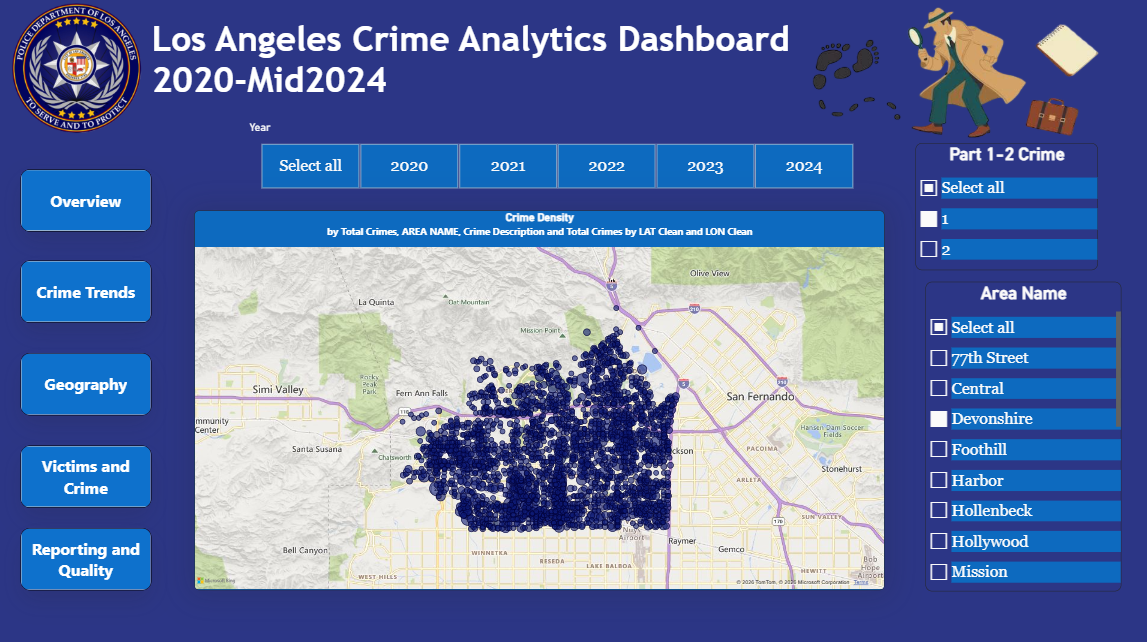

The dashboard page shown, as its layout file describes it:
{"tool":"powerbi","page":{"name":"Geography","canvas":[1920,1080],"ordinal":2},"visuals":[{"type":"image","box":[18,8,221.4,220],"z":0},{"type":"actionButton","box":[38,286,218,104],"z":0,"group":"g1"},{"type":"group","id":"g1","title":"Group 1","box":[38,286,218,702],"z":1000},{"type":"actionButton","box":[38,438,218,104],"z":1000,"group":"g1"},{"type":"slicer","title":"Year","fields":{"Values":["Date Table.Year"]},"box":[418,204,1025,115],"z":2000},{"type":"actionButton","box":[38,592,218,104],"z":2000,"group":"g1"},{"type":"map","title":"Crime Density","fields":{"Size":["Los_Angelas_Crime_Data_2020_24.Total Crimes"],"X":["Los_Angelas_Crime_Data_2020_24.LON Clean"],"Y":["Los_Angelas_Crime_Data_2020_24.LAT Clean"]},"box":[327.5,355,1150,632.5],"z":3000},{"type":"actionButton","box":[38,746,218,104],"z":3000,"group":"g1"},{"type":"slicer","title":"Area Name","fields":{"Values":["Los_Angelas_Crime_Data_2020_24.AREA NAME"]},"box":[1546,472,326,516],"z":4000},{"type":"actionButton","box":[38,884,218,104],"z":4000,"group":"g1"},{"type":"textbox","box":[255.2,32.9,1130,170.8],"z":5000},{"type":"slicer","title":"Part 1-2 Crime","fields":{"Values":["Los_Angelas_Crime_Data_2020_24.Part 1-2"]},"box":[1529.2,241.7,304,212],"z":6000},{"type":"image","box":[1270,0,650,262.5],"z":6001}]}

Visuals, with their boxes in screenshot pixels (x1, y1, x2, y2), scaled from the page's 1920x1080 canvas onto the 1147x642 screenshot:
image: x1=11, y1=5, x2=143, y2=136
actionButton: x1=23, y1=170, x2=153, y2=232
"Group 1" group: x1=23, y1=170, x2=153, y2=587
actionButton: x1=23, y1=260, x2=153, y2=322
"Year" slicer: x1=250, y1=121, x2=862, y2=190
actionButton: x1=23, y1=352, x2=153, y2=414
"Crime Density" map: x1=196, y1=211, x2=883, y2=587
actionButton: x1=23, y1=443, x2=153, y2=505
"Area Name" slicer: x1=924, y1=281, x2=1118, y2=587
actionButton: x1=23, y1=525, x2=153, y2=587
textbox: x1=152, y1=20, x2=828, y2=121
"Part 1-2 Crime" slicer: x1=914, y1=144, x2=1095, y2=270
image: x1=759, y1=0, x2=1146, y2=156
